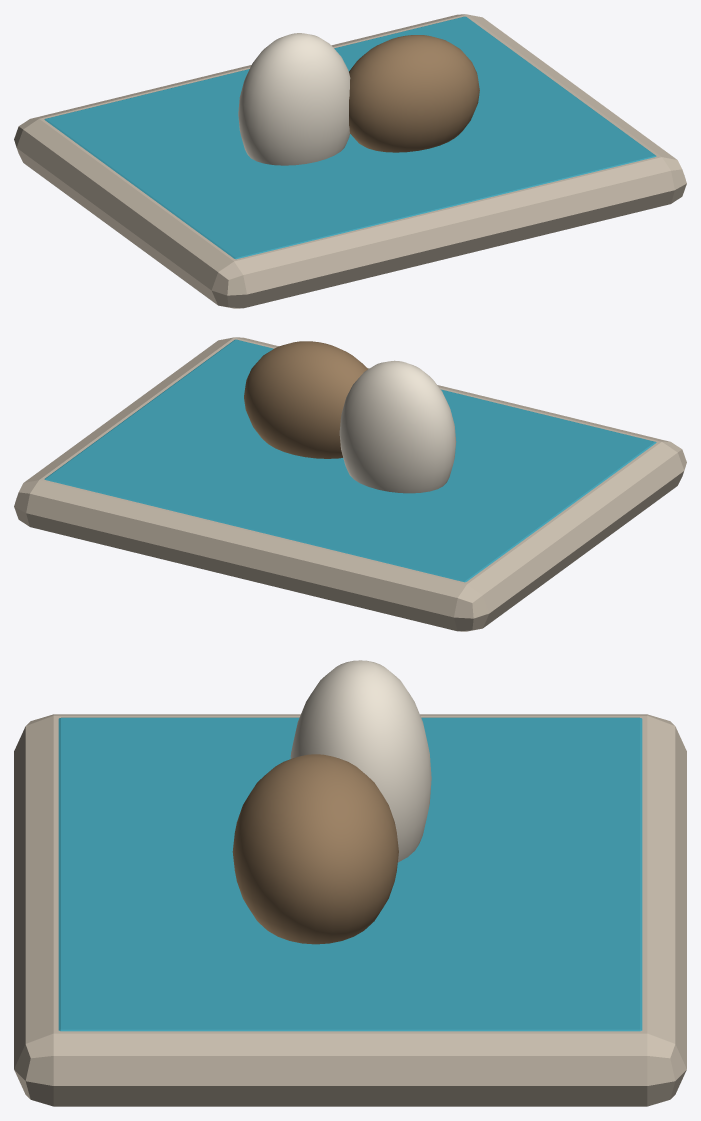
File: fountain_park.28487ee1d66b.glb
The picture shows the model from 3 angles, top to bottom: view 1: azimuth 30°, elevation 25°; view 2: azimuth 150°, elevation 25°; view 3: azimuth 270°, elevation 25°; orthographic projection. The views are drawn at different scales.
Parts seen in each view (by area): view 1: LOD1_FOUNTAIN_PARK_Water, LOD1_FOUNTAIN_PARK_Basin, LOD1_FOUNTAIN_PARK_Pebble_02, LOD1_FOUNTAIN_PARK_Pebble_01; view 2: LOD1_FOUNTAIN_PARK_Water, LOD1_FOUNTAIN_PARK_Basin, LOD1_FOUNTAIN_PARK_Pebble_01, LOD1_FOUNTAIN_PARK_Pebble_02; view 3: LOD1_FOUNTAIN_PARK_Water, LOD1_FOUNTAIN_PARK_Basin, LOD1_FOUNTAIN_PARK_Pebble_02, LOD1_FOUNTAIN_PARK_Pebble_01.
Part boxes in pixels (left/top/right/bottom): LOD1_FOUNTAIN_PARK_Water: left=44, top=16, right=656, bottom=259; LOD1_FOUNTAIN_PARK_Basin: left=14, top=14, right=686, bottom=308; LOD1_FOUNTAIN_PARK_Pebble_02: left=349, top=35, right=479, bottom=152; LOD1_FOUNTAIN_PARK_Pebble_01: left=238, top=33, right=350, bottom=165; LOD1_FOUNTAIN_PARK_Water: left=44, top=339, right=656, bottom=582; LOD1_FOUNTAIN_PARK_Basin: left=14, top=337, right=686, bottom=631; LOD1_FOUNTAIN_PARK_Pebble_01: left=339, top=360, right=456, bottom=493; LOD1_FOUNTAIN_PARK_Pebble_02: left=244, top=341, right=367, bottom=458; LOD1_FOUNTAIN_PARK_Water: left=58, top=717, right=642, bottom=1031; LOD1_FOUNTAIN_PARK_Basin: left=14, top=714, right=686, bottom=1106; LOD1_FOUNTAIN_PARK_Pebble_02: left=232, top=754, right=398, bottom=944; LOD1_FOUNTAIN_PARK_Pebble_01: left=290, top=660, right=431, bottom=862.
Size of what is drawn, in the model's own units: 8.4 by 2.7 by 6.8.
